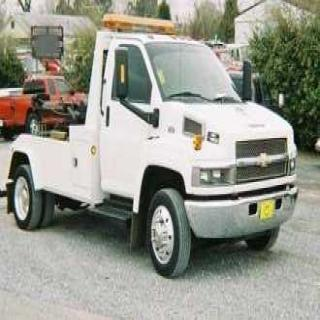Towing_truck: (4, 12, 299, 278)
